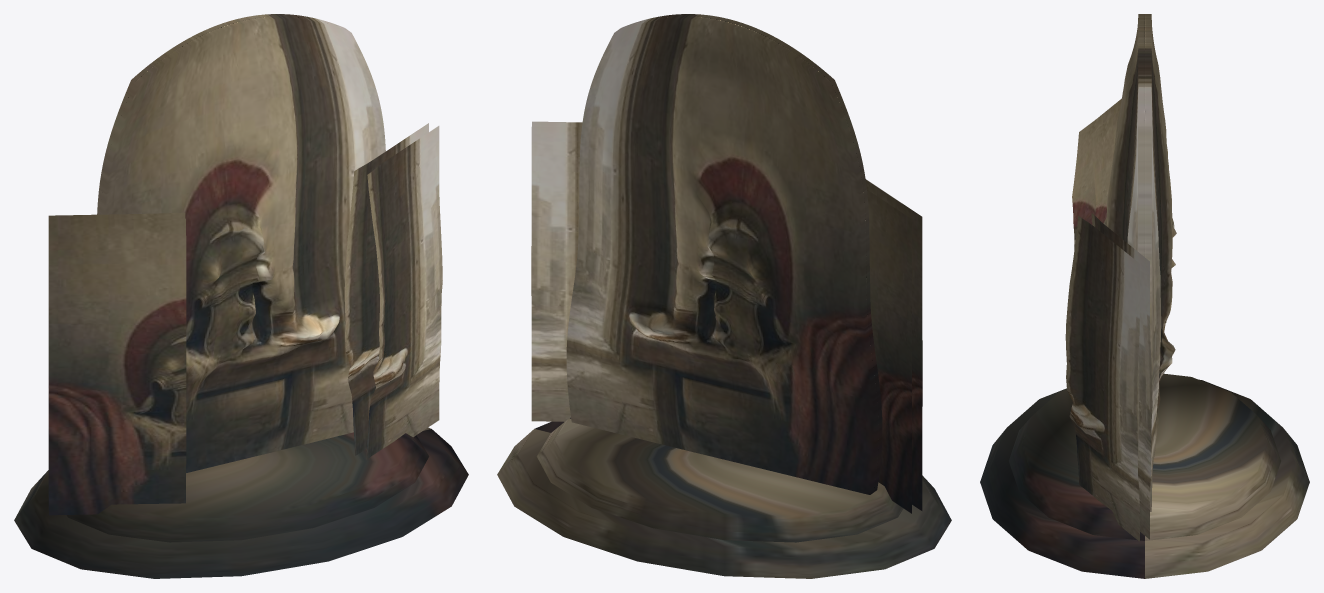
File: joy-in-chains-4.glb
3 views of the same model, side by side, from view 1: azimuth 30°, elevation 25°; view 2: azimuth 150°, elevation 25°; view 3: azimuth 270°, elevation 25° (orthographic). The views are drawn at different scales.
Visible parts, largest first — view 1: PaintingSculptureMonument; view 2: PaintingSculptureMonument; view 3: PaintingSculptureMonument.
Boxes of the visible parts, x1=… form: PaintingSculptureMonument: x1=14, y1=14, x2=468, y2=578; PaintingSculptureMonument: x1=497, y1=14, x2=951, y2=578; PaintingSculptureMonument: x1=980, y1=14, x2=1309, y2=578.
Bounding box in the file's own units: 2.76 × 2.99 × 1.99.
1 material, 1 textured.
